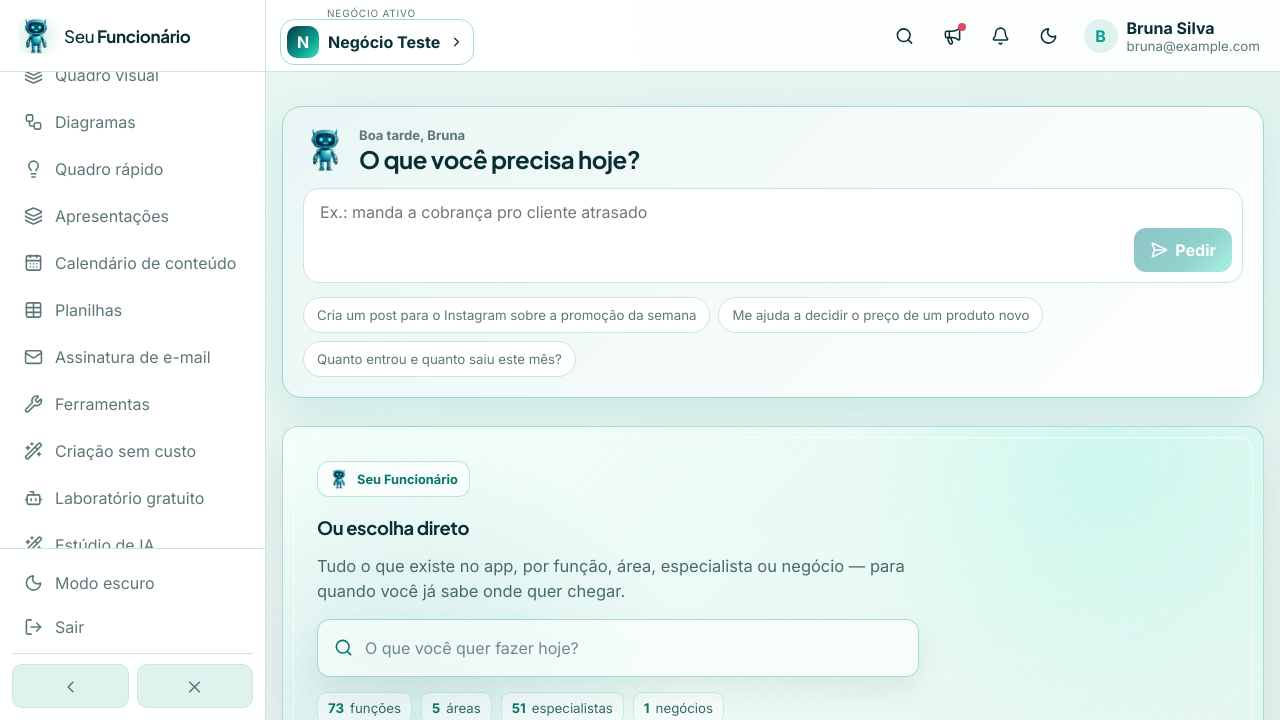
Test: Planilhas — gráfico › restaura automaticamente um gráfico salvo
(page scrolled)
What coordinates should you click on to do the following:
click the button "Planilhas"
I would click on:
 (132, 310)
Its box is 12,288 -> 253,332.
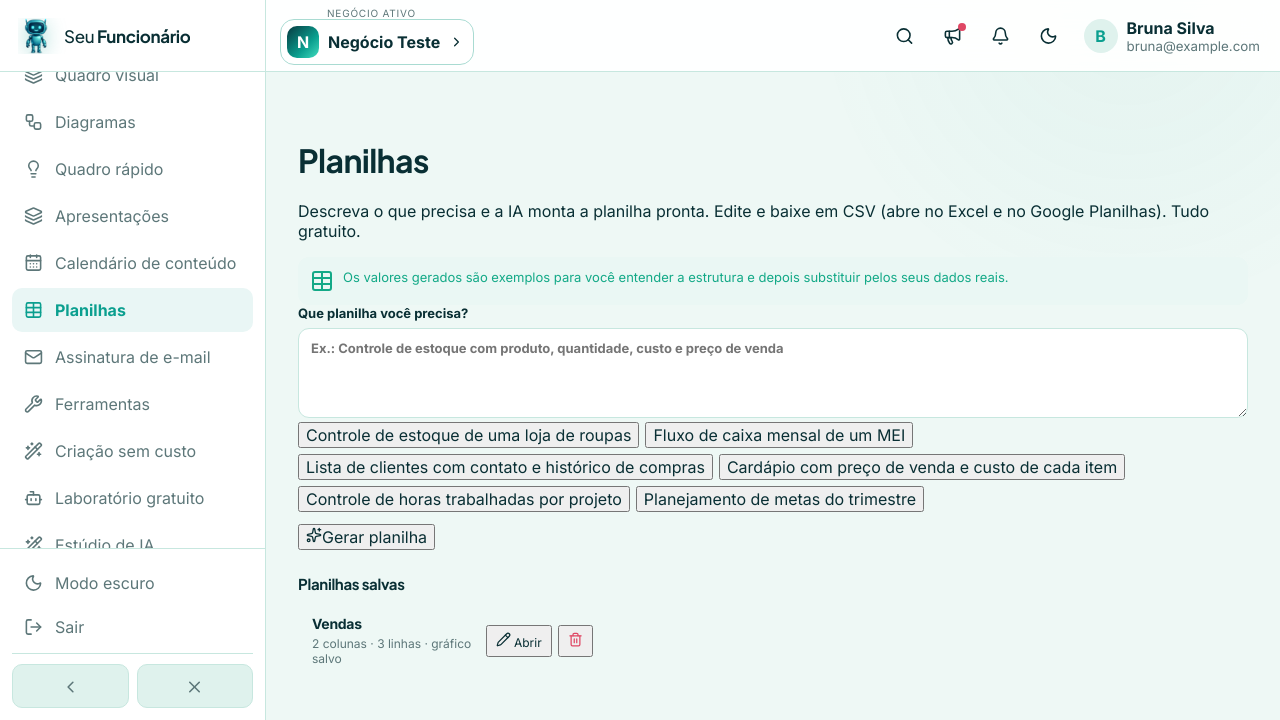
Expected: the heading "Planilhas" is shown, 298,140 -> 429,180
Expected: the text "2 colunas · 3 linhas · gráfico salvo" is shown, 312,636 -> 476,666
What coordinates should you click on to do the following:
click the button "Abrir"
I would click on:
 (519, 641)
Its box is 486,625 -> 552,657.
(page scrolled)
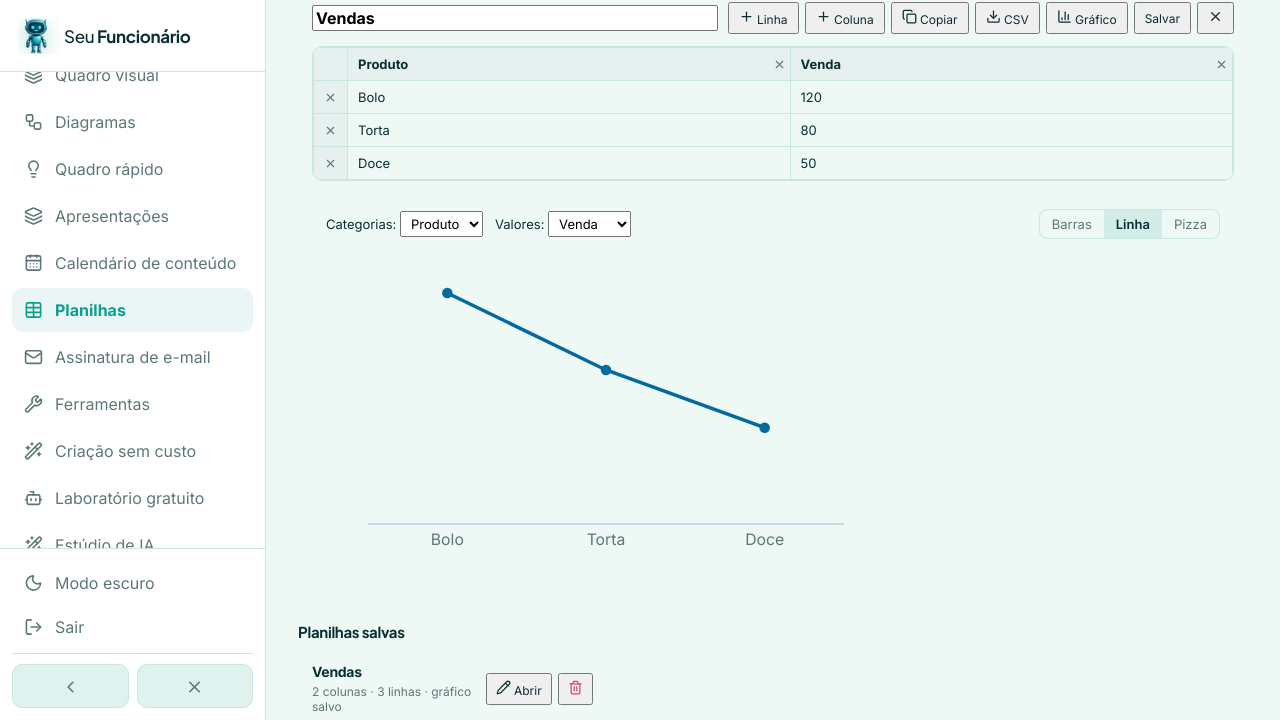
Expected: the field showing "Vendas" is shown, 312,5 -> 718,31
Expected: the picture with class "sheet-chart-svg" is shown, 326,251 -> 886,566
